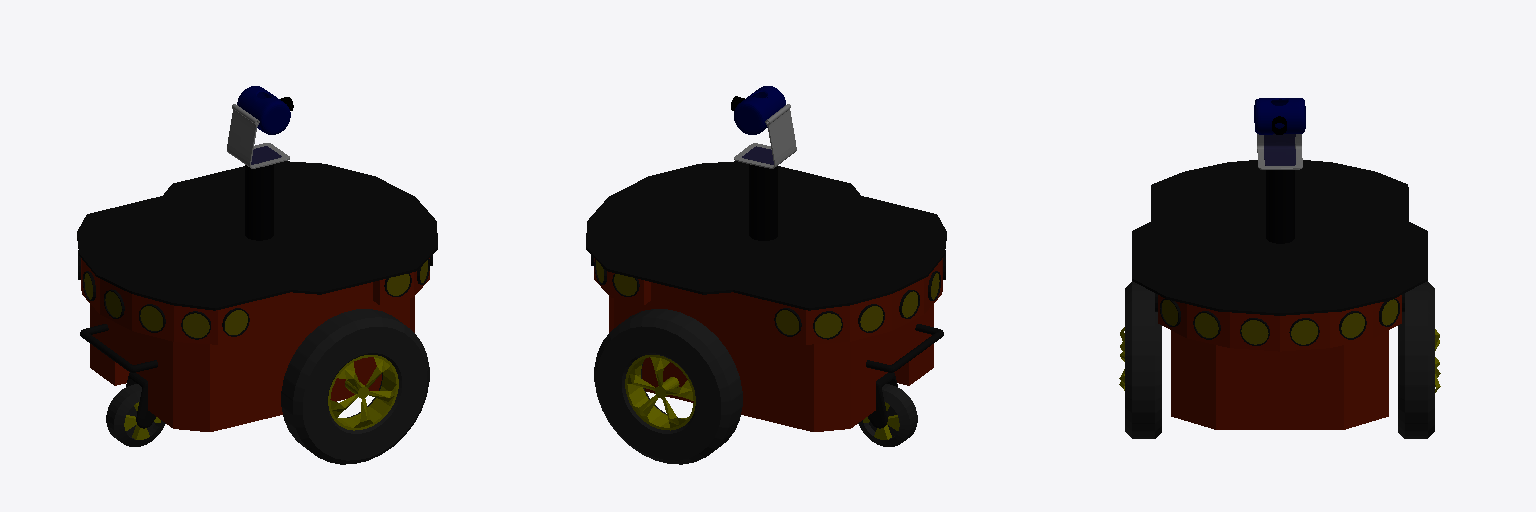
File: perseguidor_perspectivo.obj
3 renders of one model, left to right at view 1: azimuth 30°, elevation 25°; view 2: azimuth 150°, elevation 25°; view 3: azimuth 270°, elevation 25°, orthographic.
Visible parts, largest first — view 1: Pioneer_PioneerMesh, Wheel_R_Circle.005, Cylinder, CasterWheel_Cylinder.002, Circle01.002, Cylinder02.002, Swivel_Plane.001; view 2: Pioneer_PioneerMesh, Wheel_L_Circle.006, Cylinder, CasterWheel_Cylinder.002, Circle01.002, Cylinder02.002, Swivel_Plane.001; view 3: Pioneer_PioneerMesh, Wheel_L_Circle.006, Wheel_R_Circle.005, Cylinder, Cylinder02.002, Circle01.002.
Boxes of the visible parts, box(x1,y1,x2,y2) form: Pioneer_PioneerMesh: box(77, 161, 437, 431); Wheel_R_Circle.005: box(281, 309, 429, 464); Cylinder: box(245, 164, 273, 240); CasterWheel_Cylinder.002: box(106, 384, 165, 446); Circle01.002: box(227, 104, 289, 168); Cylinder02.002: box(237, 86, 290, 134); Swivel_Plane.001: box(126, 372, 155, 428); Pioneer_PioneerMesh: box(586, 161, 946, 431); Wheel_L_Circle.006: box(594, 309, 742, 464); Cylinder: box(749, 164, 777, 240); CasterWheel_Cylinder.002: box(858, 384, 917, 446); Circle01.002: box(734, 104, 796, 168); Cylinder02.002: box(734, 86, 785, 134); Swivel_Plane.001: box(868, 372, 897, 428); Pioneer_PioneerMesh: box(1132, 160, 1427, 429); Wheel_L_Circle.006: box(1398, 281, 1440, 438); Wheel_R_Circle.005: box(1119, 281, 1161, 438); Cylinder: box(1266, 170, 1294, 243); Cylinder02.002: box(1254, 98, 1305, 134); Circle01.002: box(1257, 134, 1302, 169).
Size of the model in its own units: 1.08 by 1.04 by 0.9452.